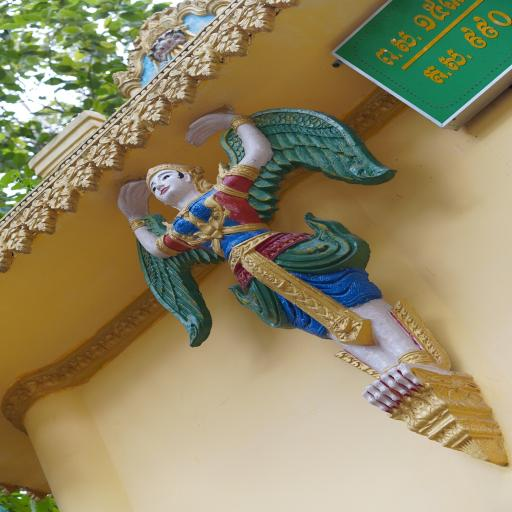than: (84, 78, 512, 468)
